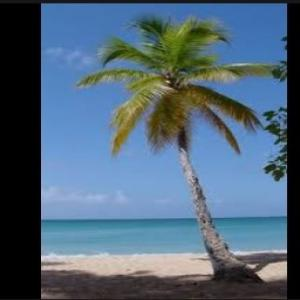palm tree: (75, 13, 280, 284)
